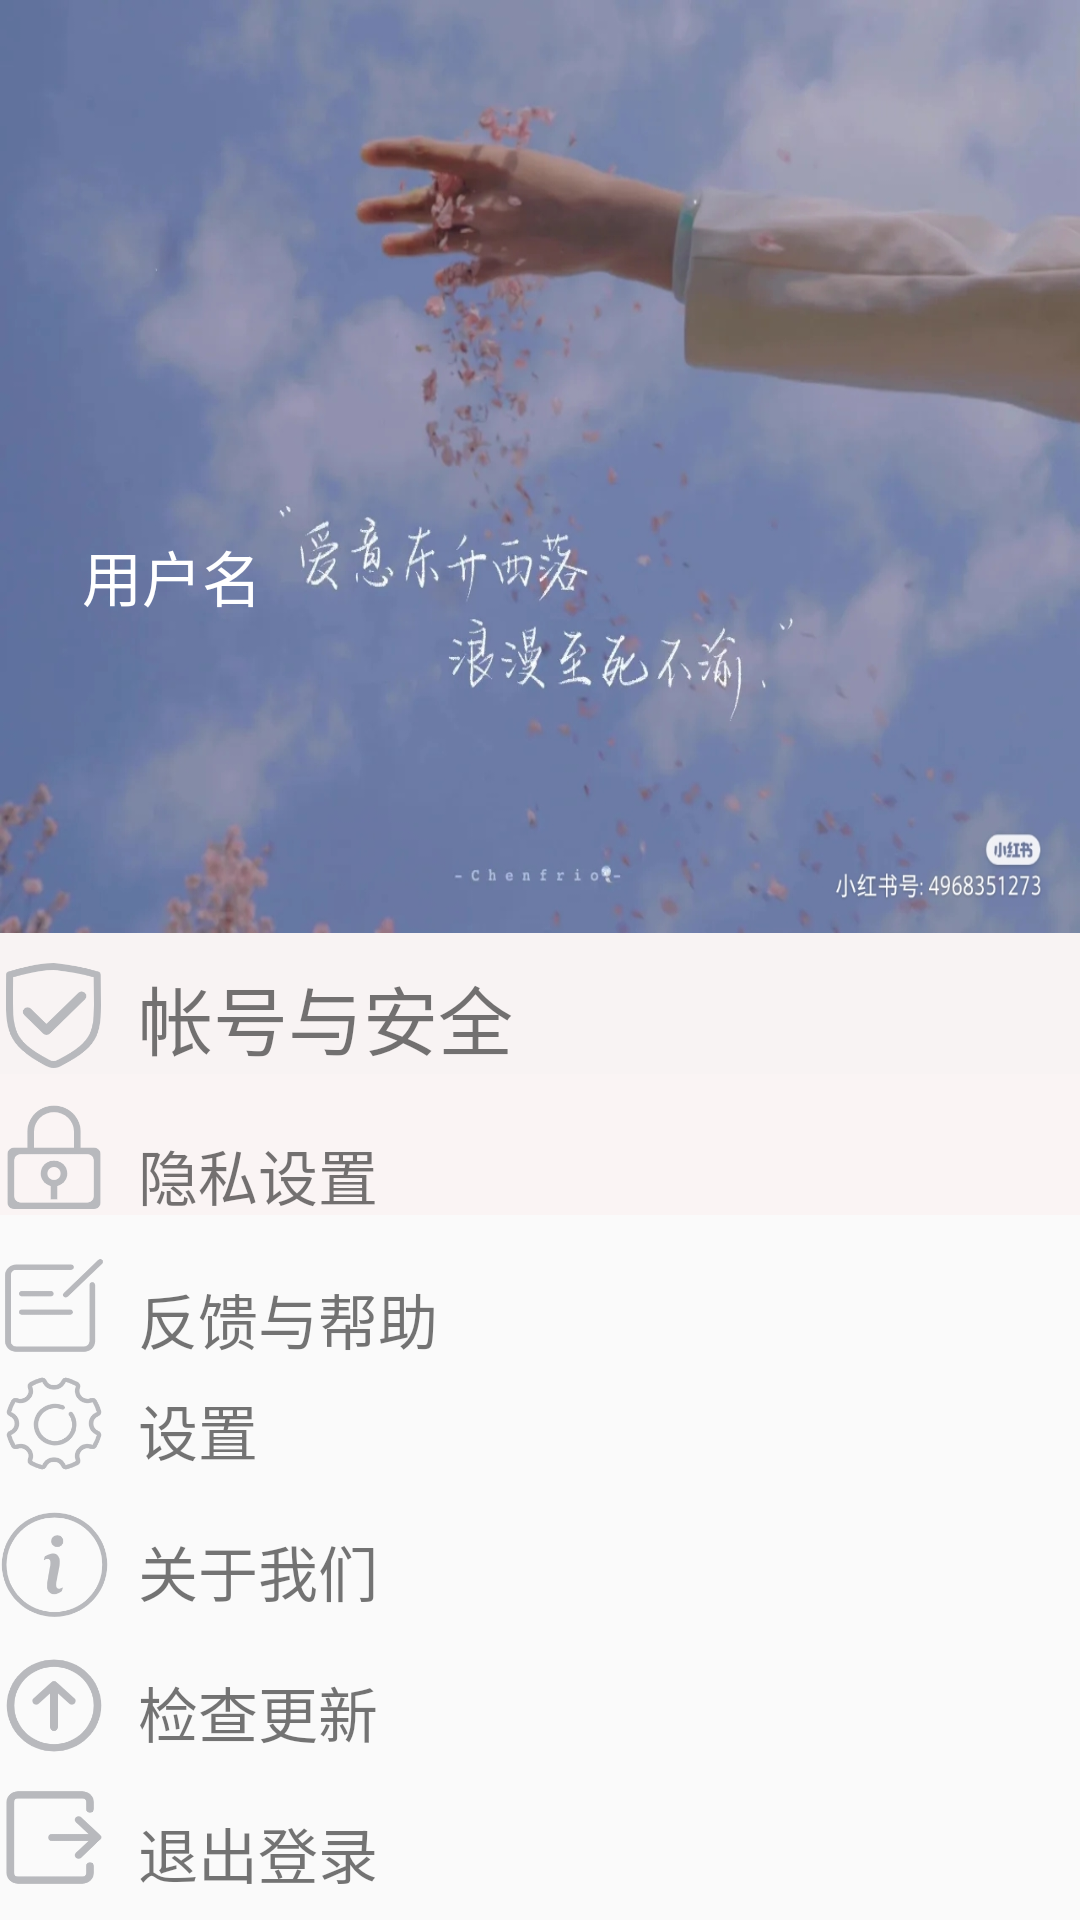

Icons on this 1080 x 1920 Android screen, each with its box as {"left": x1, "top": y1, "right": x2, "bottom": y2}:
about us: {"left": 2, "top": 1513, "right": 107, "bottom": 1617}
comment: {"left": 5, "top": 1259, "right": 103, "bottom": 1352}
login out: {"left": 6, "top": 1791, "right": 101, "bottom": 1884}
privacy: {"left": 7, "top": 1106, "right": 101, "bottom": 1209}
safety: {"left": 6, "top": 963, "right": 101, "bottom": 1068}
settings: {"left": 7, "top": 1377, "right": 101, "bottom": 1470}
update: {"left": 7, "top": 1659, "right": 101, "bottom": 1752}
